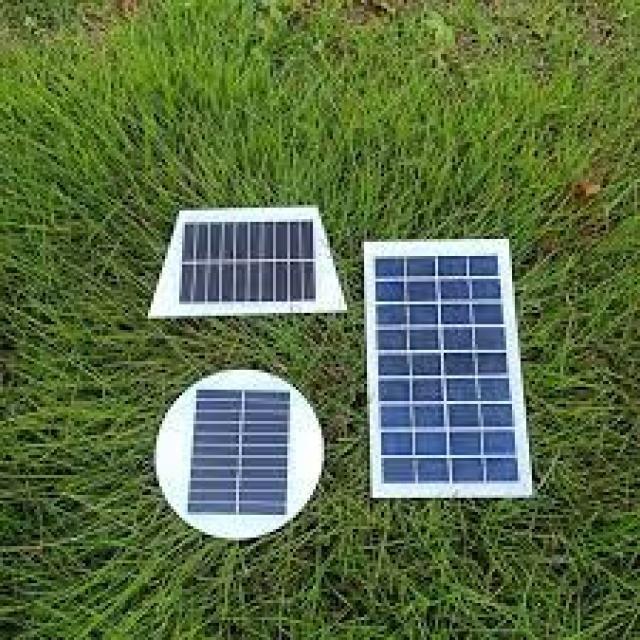no faulty: (366, 256, 530, 493), (185, 390, 291, 532), (169, 216, 321, 312)
